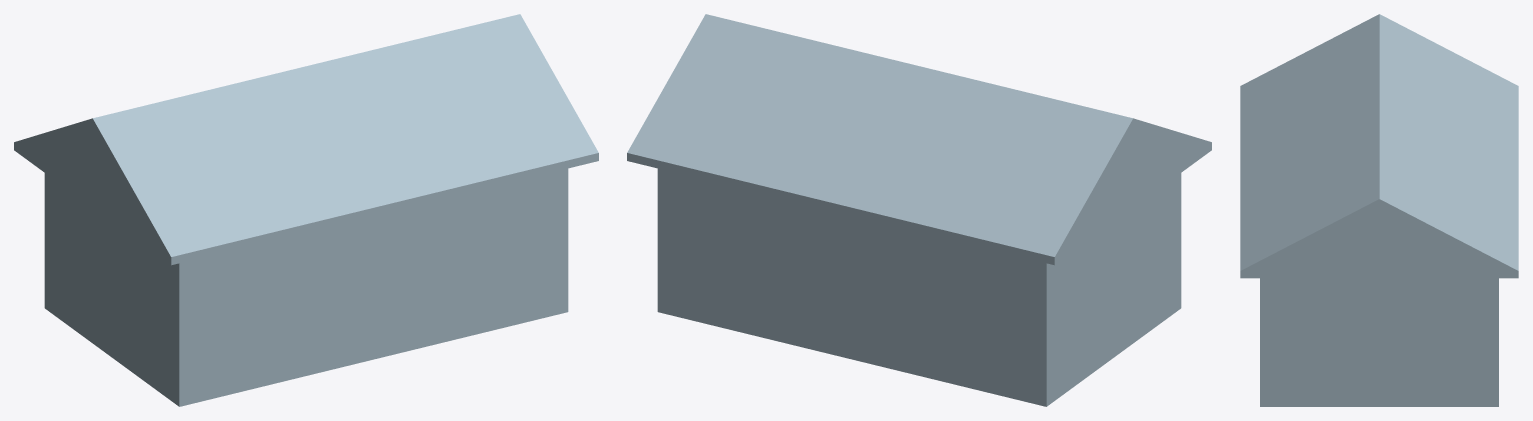
Rendered from bo_river_warehouse.fbx.
3 views of the same model, side by side, from view 1: azimuth 30°, elevation 25°; view 2: azimuth 150°, elevation 25°; view 3: azimuth 270°, elevation 25° (orthographic). The views are drawn at different scales.
Parts seen in each view (by area): view 1: bo_river_warehouse; view 2: bo_river_warehouse; view 3: bo_river_warehouse.
Boxes of the visible parts, left/top/right/bottom form: bo_river_warehouse: left=14, top=14, right=598, bottom=406; bo_river_warehouse: left=627, top=14, right=1211, bottom=406; bo_river_warehouse: left=1240, top=14, right=1518, bottom=406.
Size of the model in its own units: 11 by 6 by 7.
Materials: 1 (1 with a texture image).
